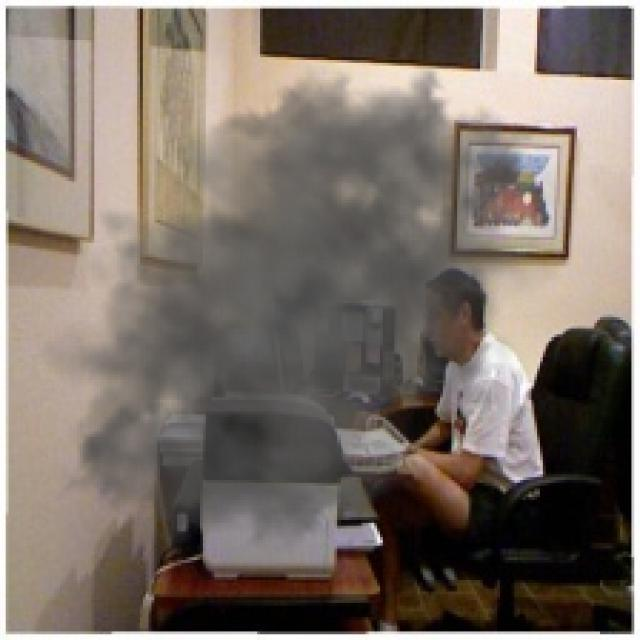Smoke: (37, 31, 563, 588)
